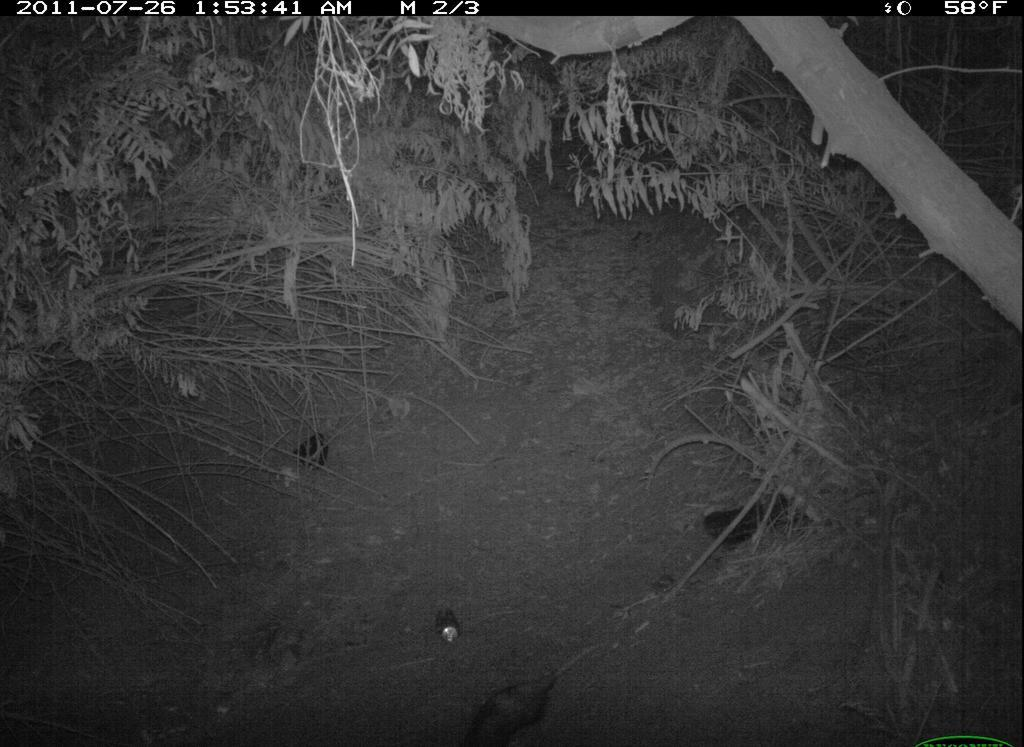opossum: (429, 657, 579, 744)
